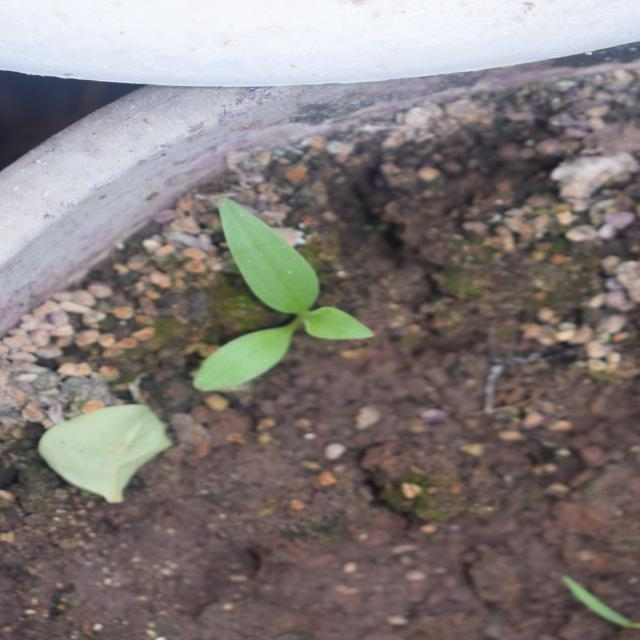Common Dayflower: (191, 264, 400, 461)
